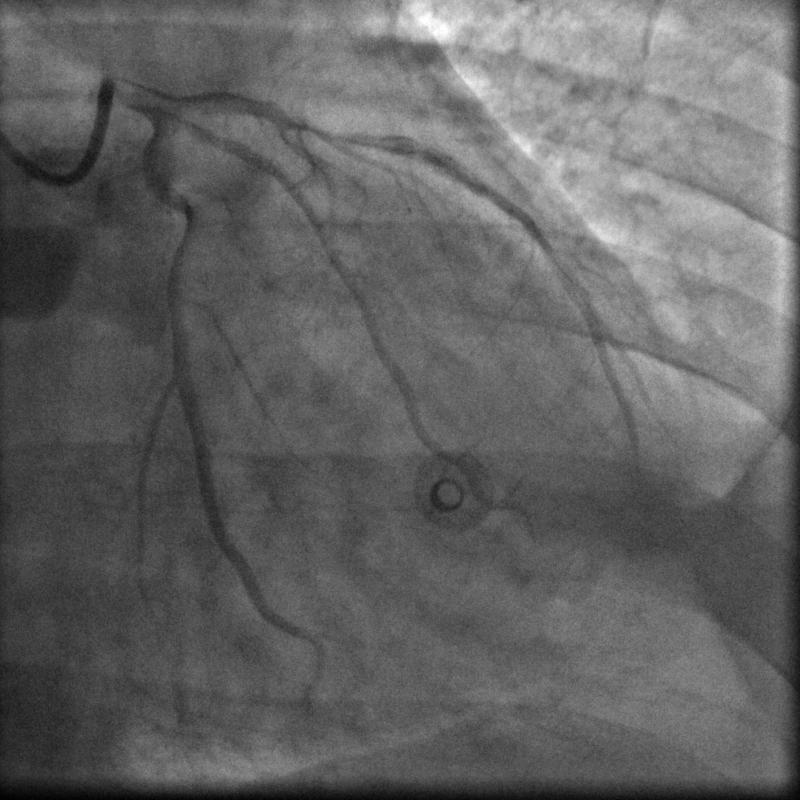Stenosis: (298, 122, 385, 154)
